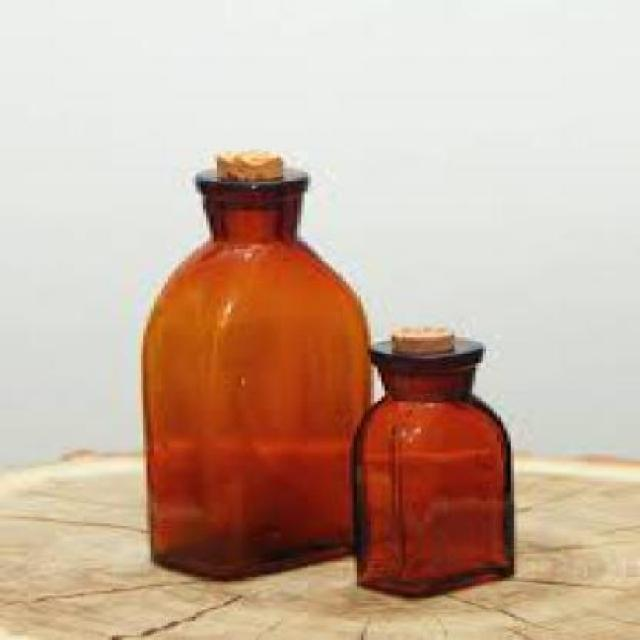kaca: (140, 168, 368, 580), (349, 338, 511, 597)
